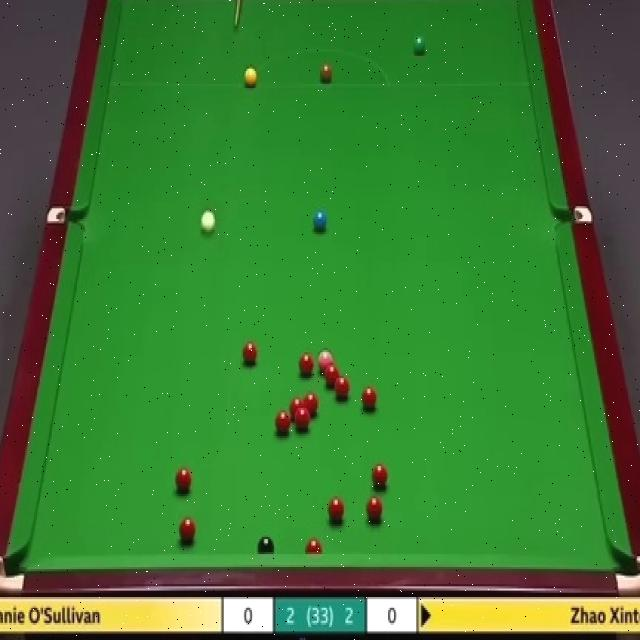black-ball: (257, 536, 276, 554)
blue-ball: (312, 212, 328, 230)
brown-ball: (320, 64, 332, 83)
green-ball: (412, 36, 425, 54)
pink-ball: (318, 350, 333, 372)
red-ball: (370, 464, 389, 491), (328, 496, 346, 524), (178, 518, 196, 544), (366, 497, 383, 522), (296, 354, 315, 376), (174, 468, 193, 490), (361, 386, 378, 410), (242, 338, 258, 363), (305, 391, 323, 413), (275, 410, 290, 436), (333, 374, 349, 398), (324, 364, 340, 383), (304, 538, 324, 553), (296, 408, 310, 429), (290, 398, 304, 418)
white-ball: (200, 210, 216, 232)
yellow-ball: (244, 66, 257, 88)
